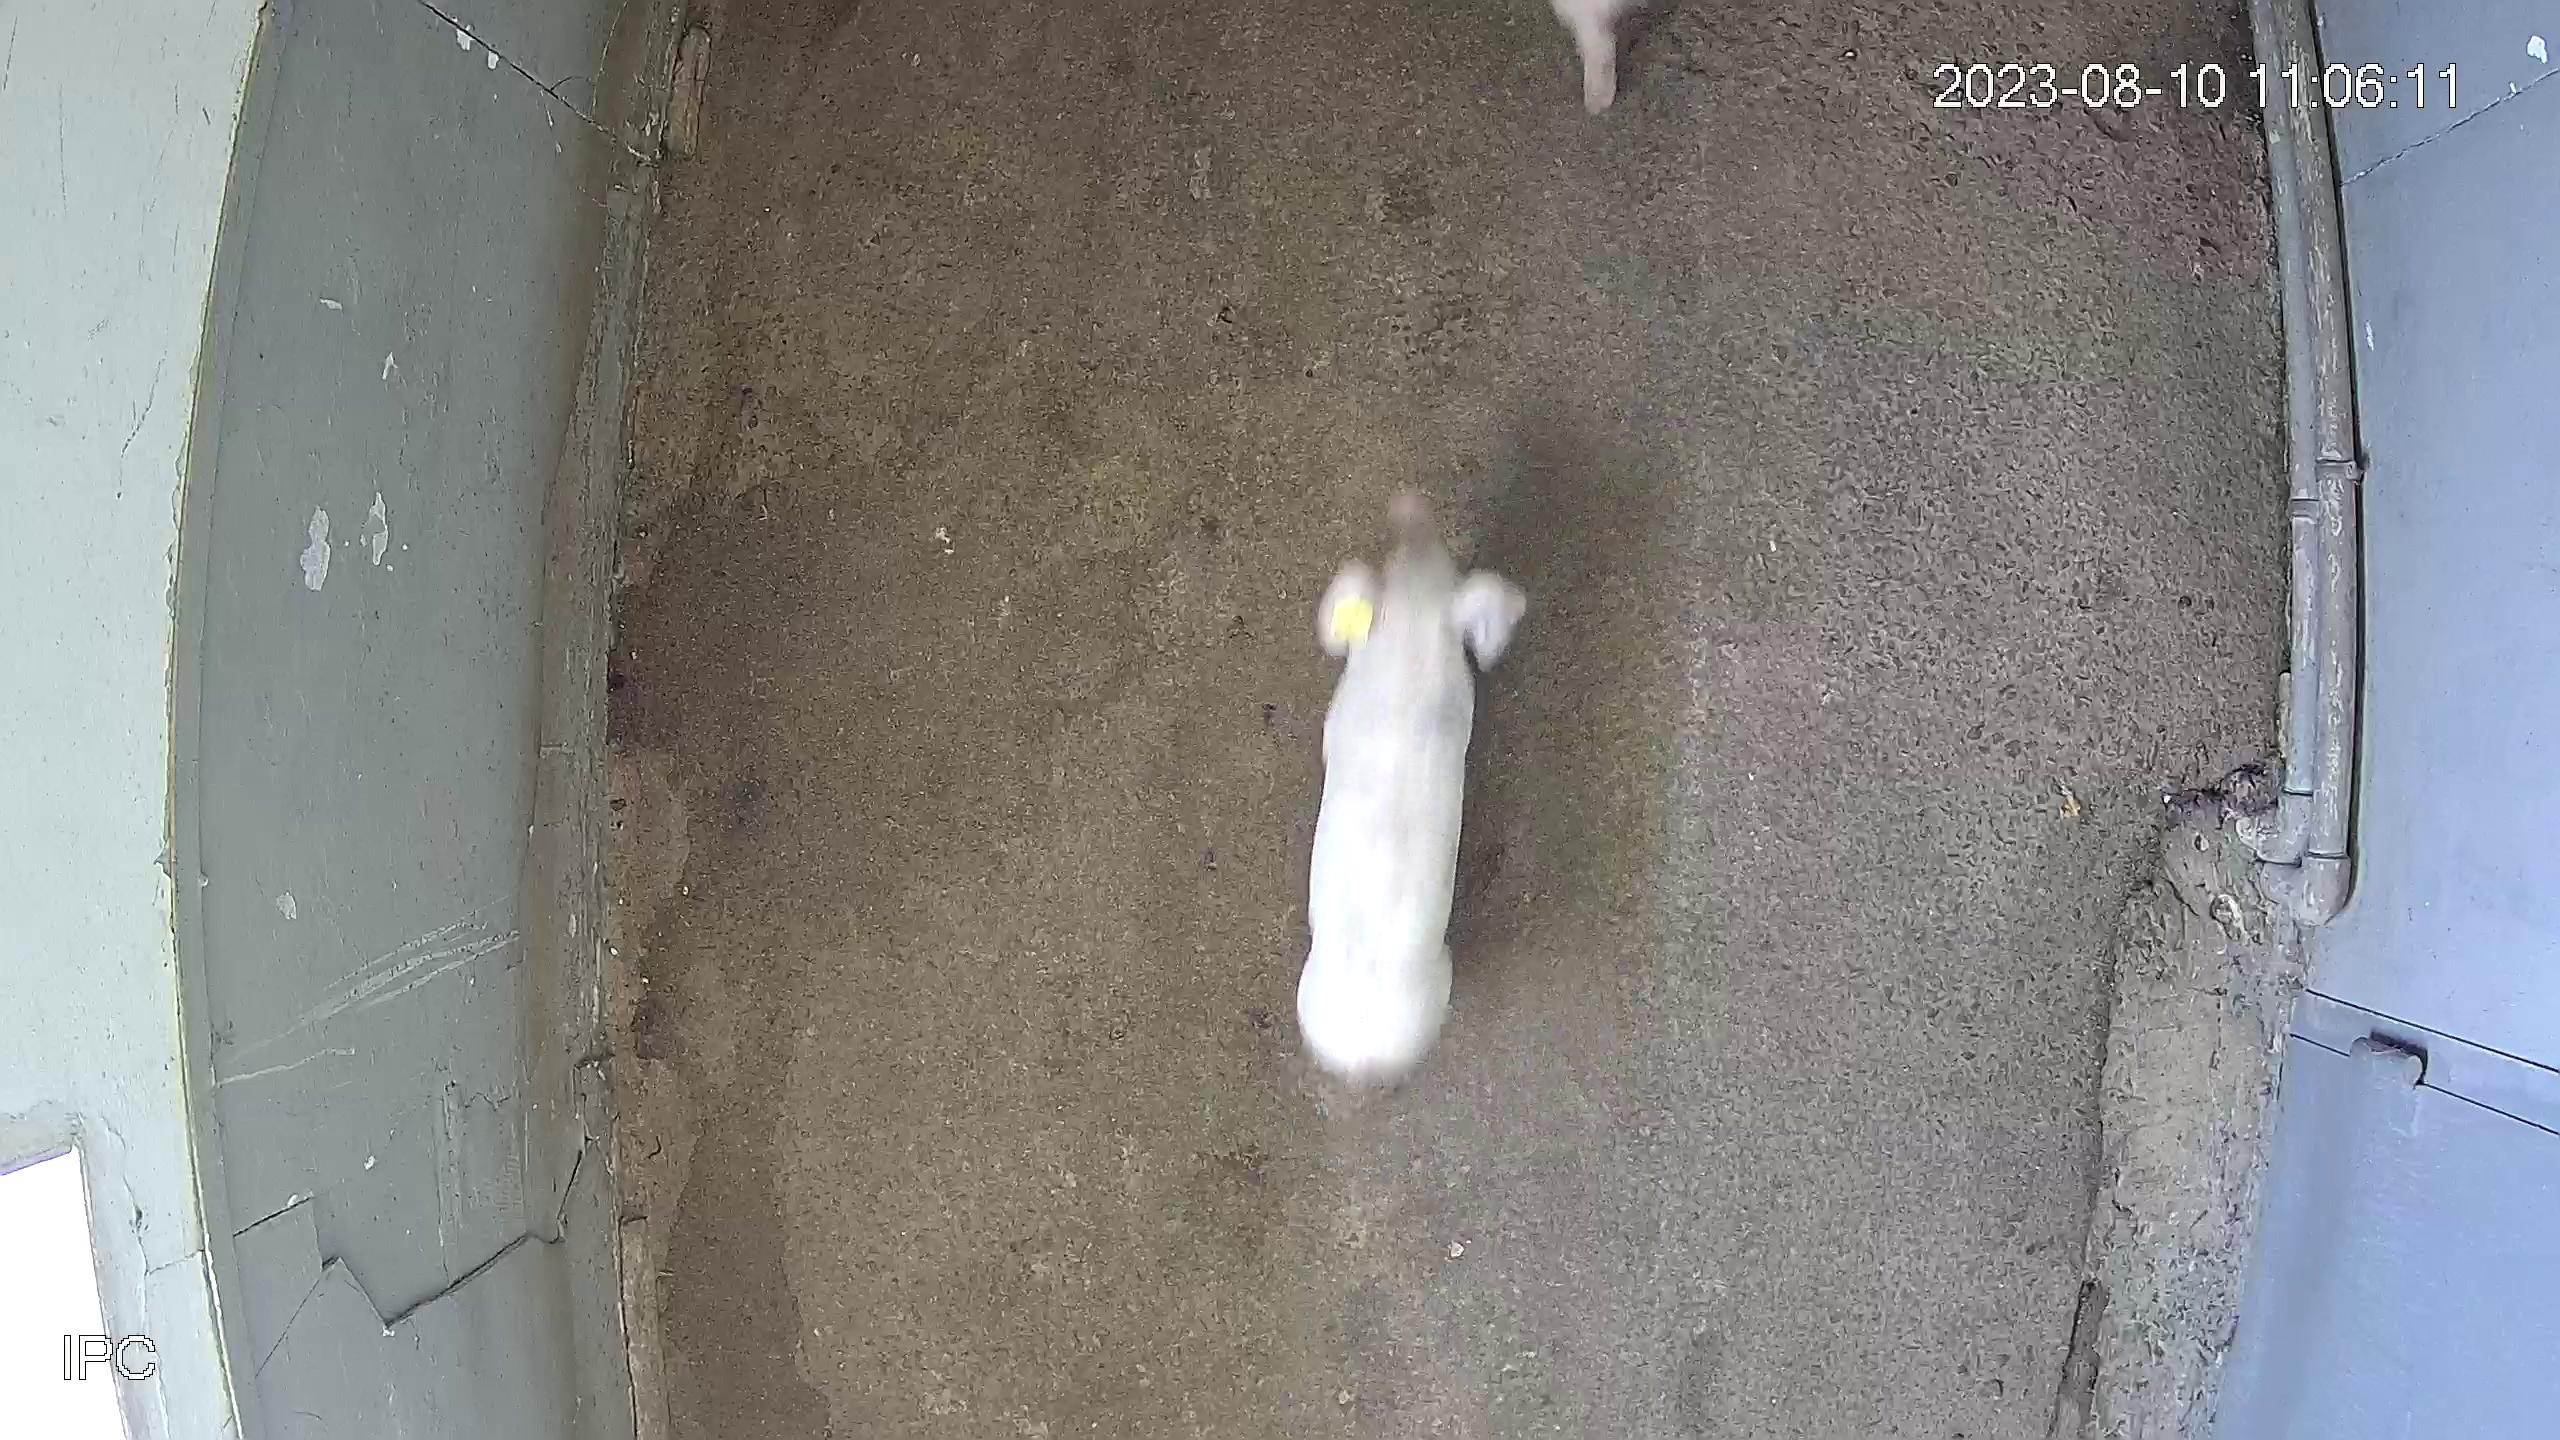Pig: (1298, 491, 1526, 1085), (1553, 0, 1637, 109)
